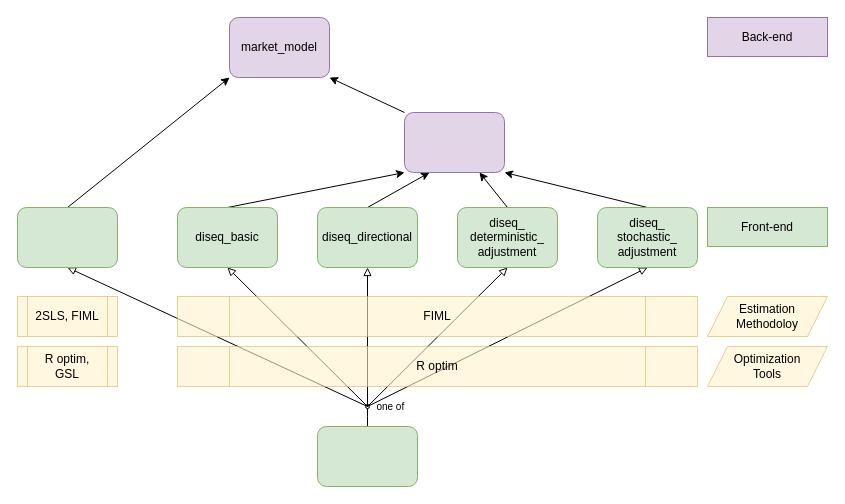
Image size: 845x504. Some labels were removed from this diagram. The shapes that lost their labels are listed below. From the top down, each one's box as (x1, y1, x2, y2) in pixels, then its label:
(404, 112, 504, 172): disequilibrium_ model
(16, 206, 118, 268): equilibrium_ model
(316, 426, 418, 486): market_fit
